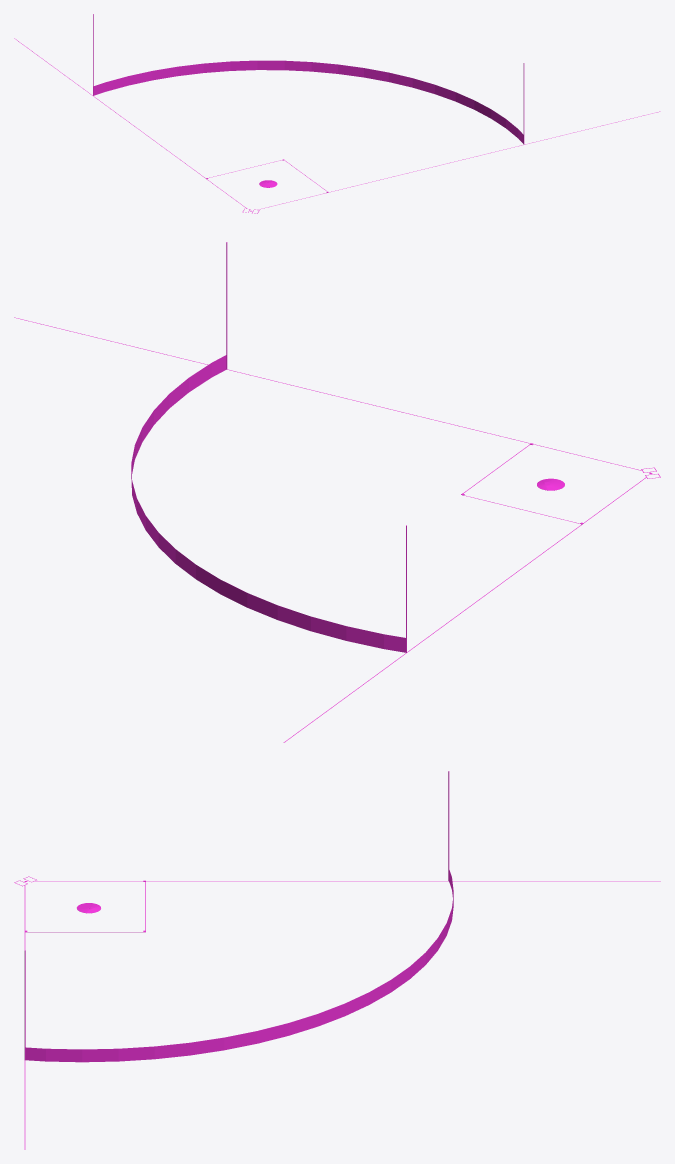
The model's file is 60 ft field 2.glb.
The picture shows the model from 3 angles, top to bottom: view 1: azimuth 30°, elevation 25°; view 2: azimuth 150°, elevation 25°; view 3: azimuth 270°, elevation 25°; orthographic projection. The views are drawn at different scales.
Visible parts, largest first — view 1: fence, chalk; view 2: fence, chalk; view 3: fence, chalk.
Boxes of the visible parts, <box> form: fence: <box>93,60,523,143</box>; chalk: <box>14,38,660,213</box>; fence: <box>131,355,405,652</box>; chalk: <box>14,317,660,742</box>; fence: <box>25,869,453,1062</box>; chalk: <box>14,876,660,1149</box>.
Size of the model in its own units: 97.63 by 18.3 by 97.63.
